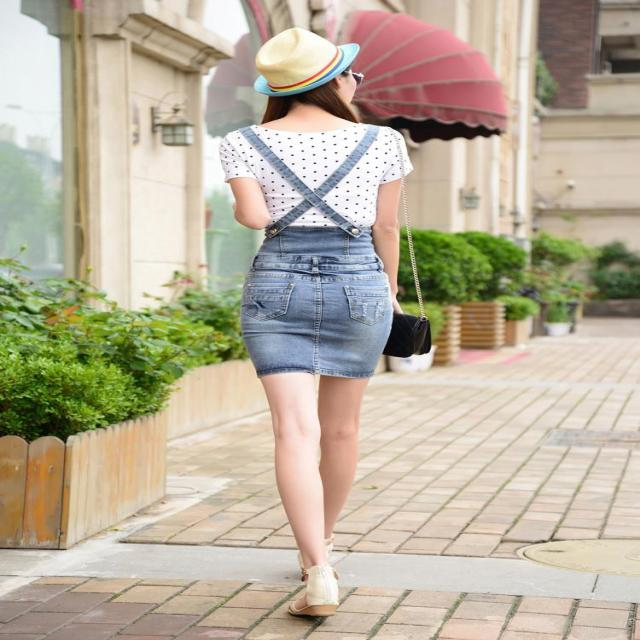short sleeve top: (219, 122, 415, 257)
sling dress: (241, 125, 394, 378)
